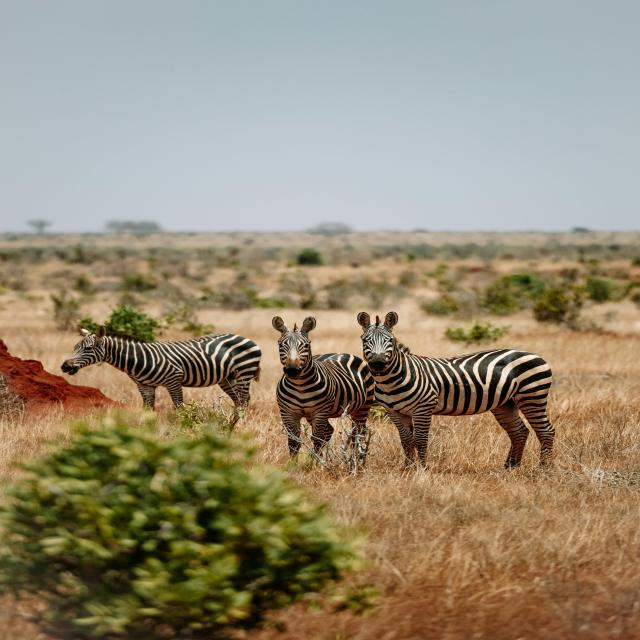Zebra: (357, 311, 556, 468), (61, 324, 263, 423), (270, 316, 376, 464)
